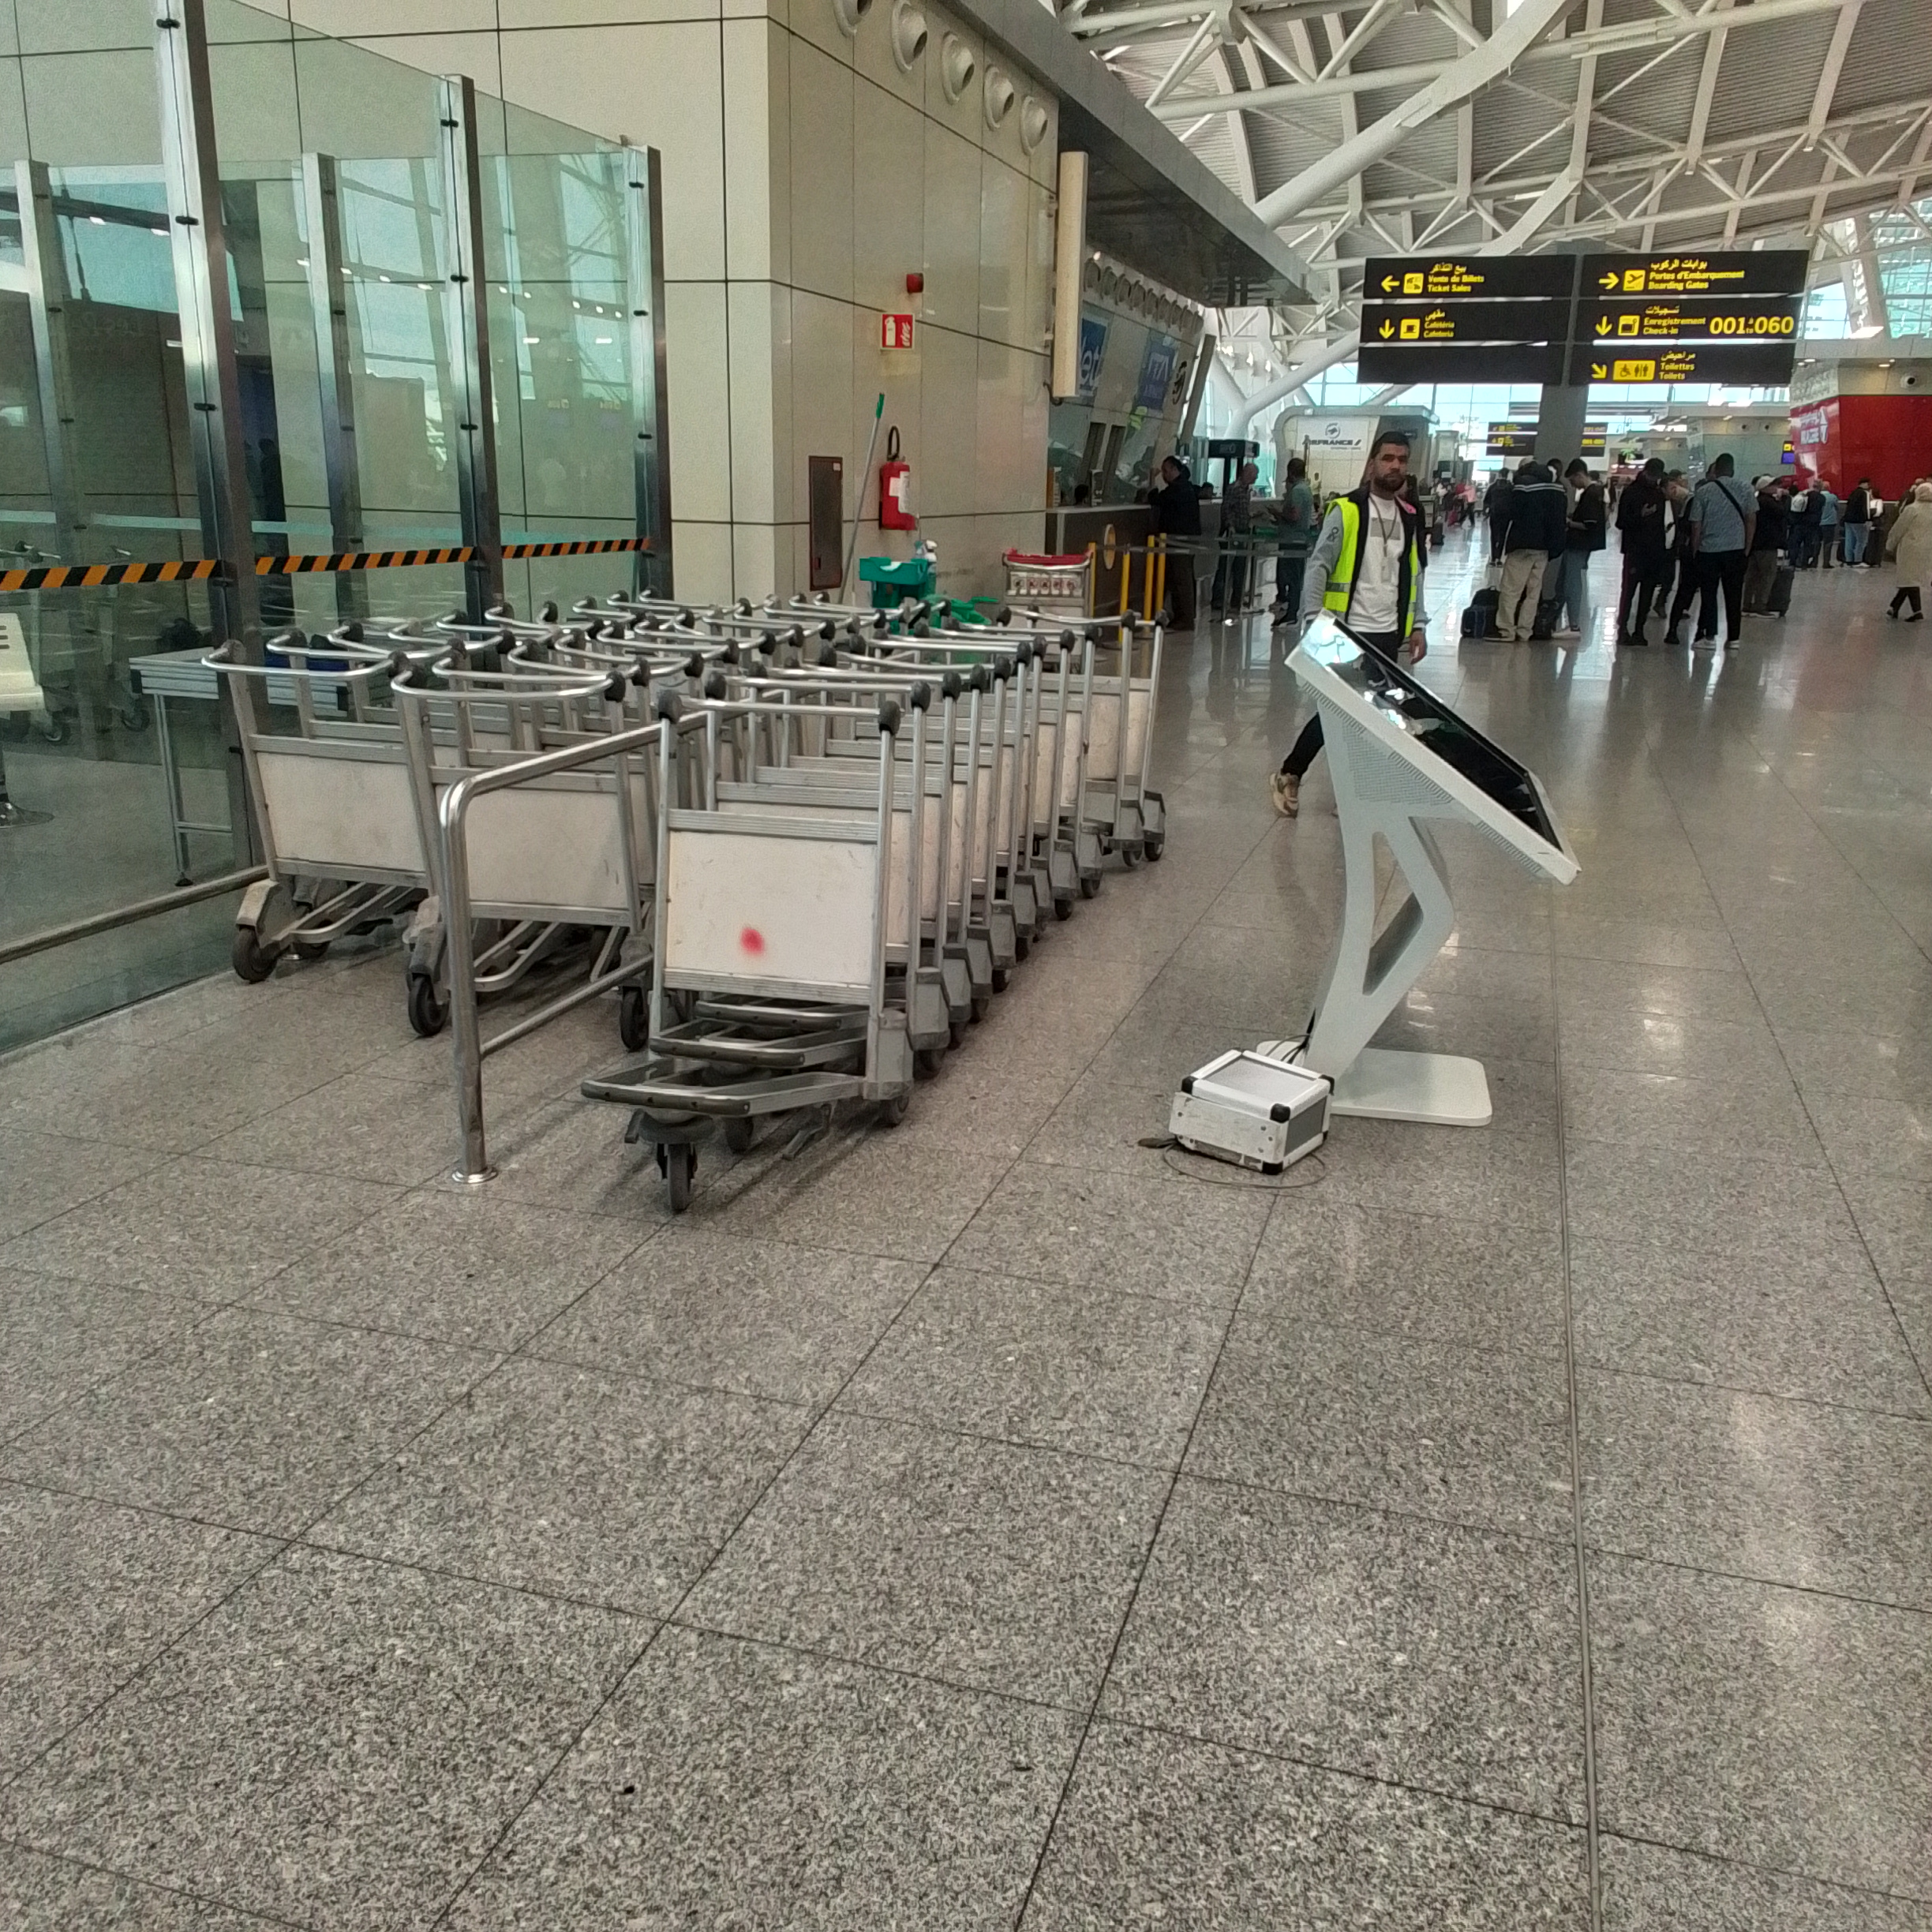airport-trolley: (605, 695, 899, 1192), (184, 635, 437, 984), (393, 665, 646, 993), (893, 621, 1014, 1088), (973, 602, 1108, 993), (1044, 596, 1171, 899)
